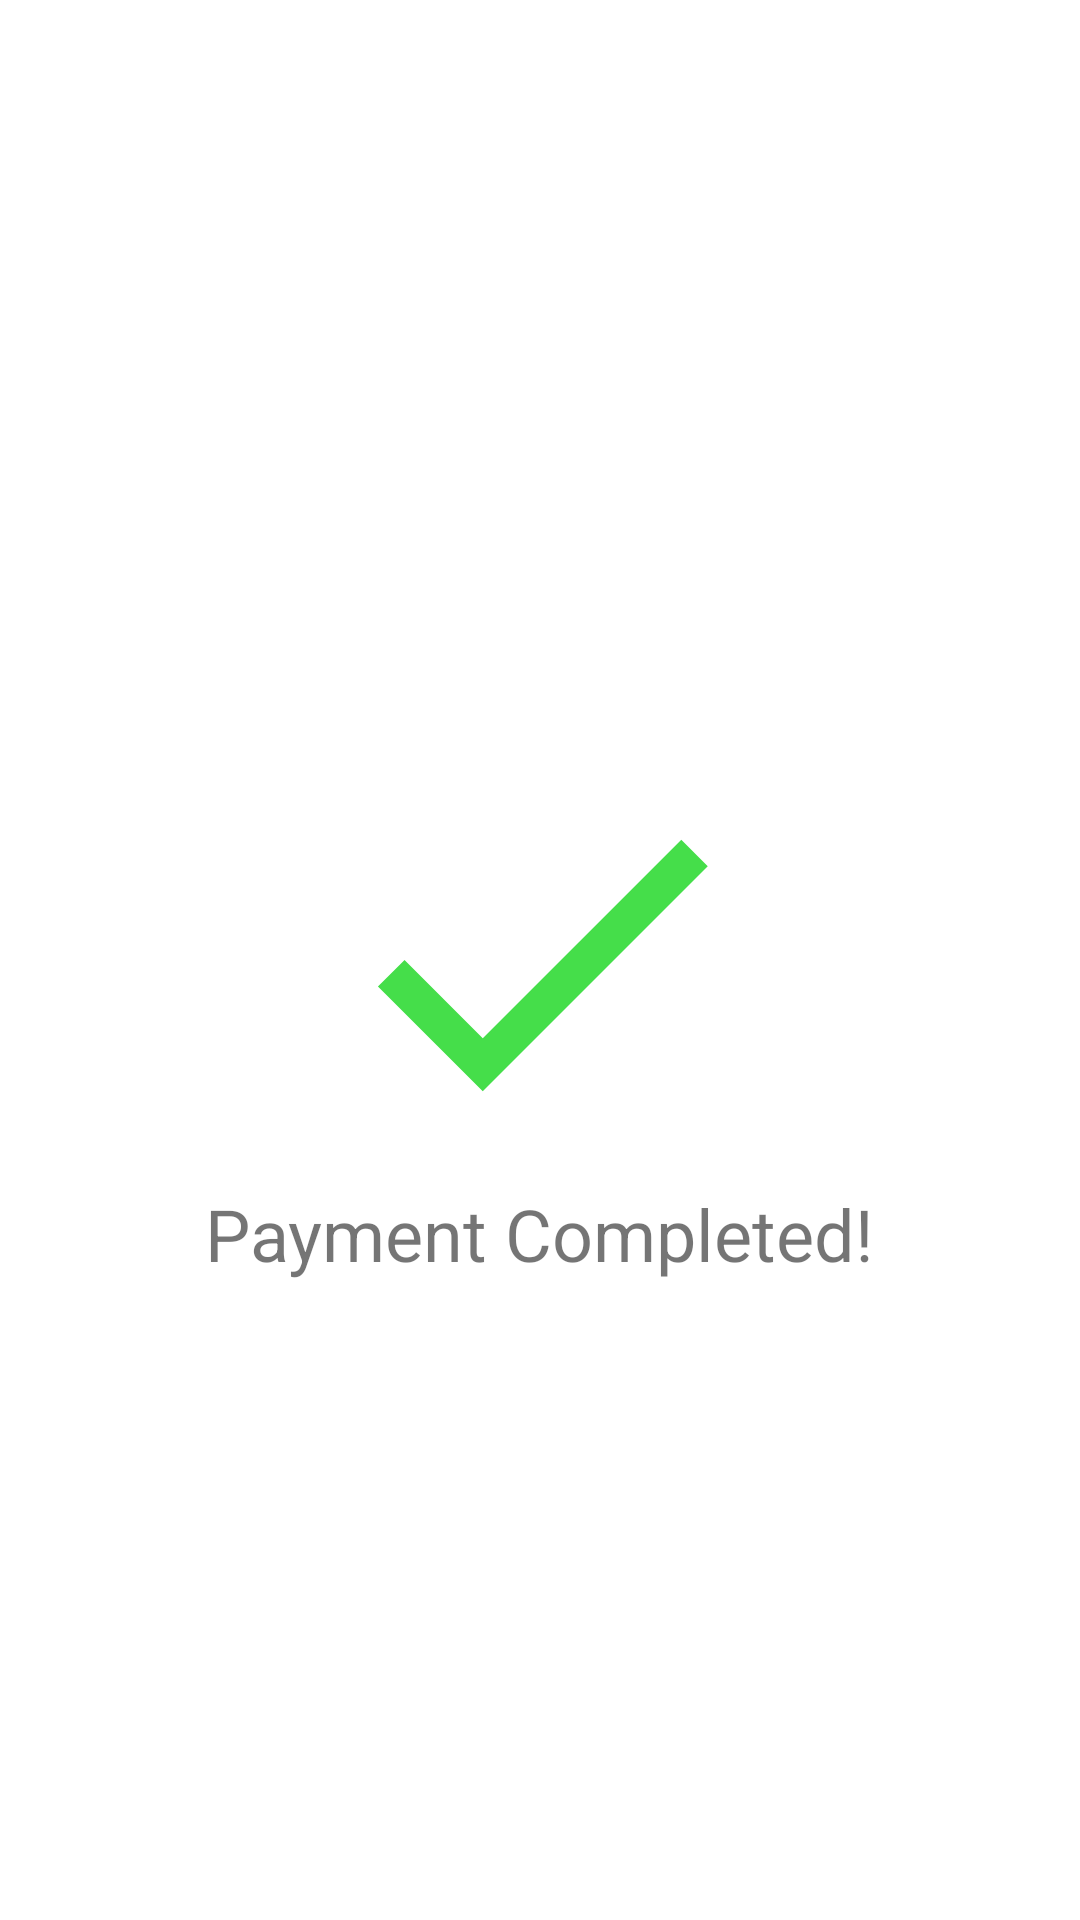

Where icons sit on this 1080 x 1920 app screen, as BBox(x1, y1, x2, y2):
checked: BBox(378, 840, 708, 1091)
